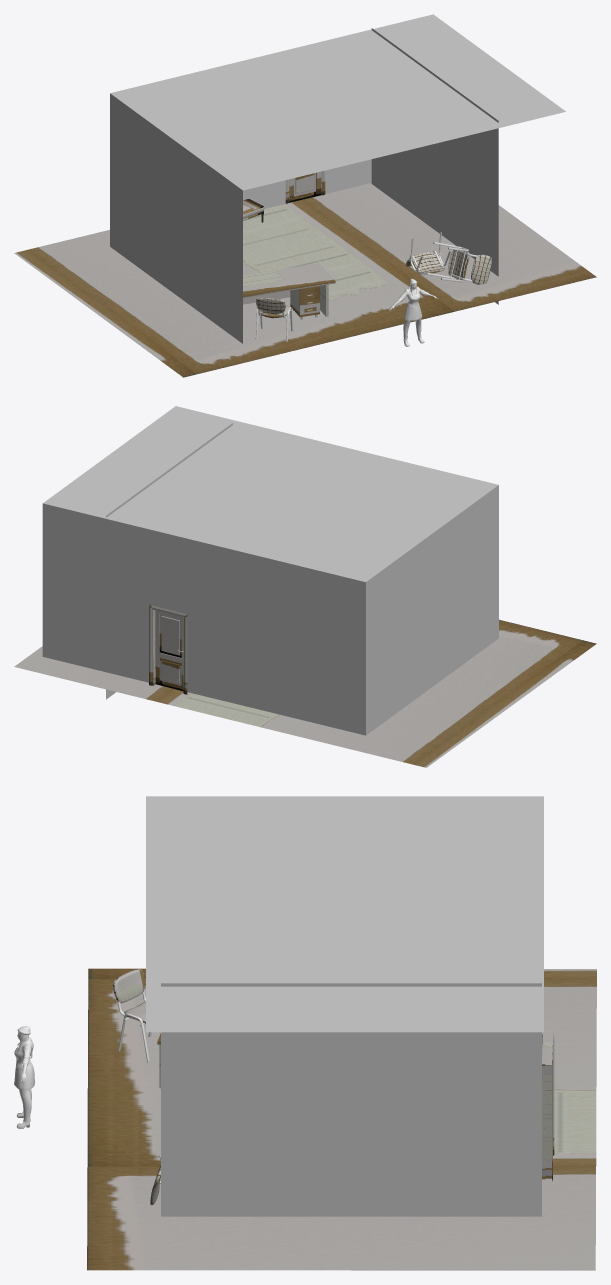
File: sala_generica.fbx
3 renders of one model, top to bottom at view 1: azimuth 30°, elevation 25°; view 2: azimuth 150°, elevation 25°; view 3: azimuth 270°, elevation 25°, orthographic. The views are drawn at different scales.
Visible parts, largest first — view 1: Cube, floor, Cube.001, Cube.003, cadeira.001, PortaMadeira, Personagem, Cube.008, cadeira, cadeira.002; view 2: Cube, floor, PortaMadeira; view 3: Cube, Cube.001, floor, PortaMadeira, Personagem, cadeira.
Boxes of the visible parts, x1,y1,x2,y2 form: Cube: (110,14,565,343); floor: (14,183,596,377); Cube.001: (371,28,498,304); Cube.003: (243,263,335,316); cadeira.001: (426,242,491,284); PortaMadeira: (285,170,325,203); Personagem: (389,278,438,346); Cube.008: (290,286,319,319); cadeira: (255,297,292,341); cadeira.002: (405,232,450,274); Cube: (42,406,498,735); floor: (14,619,596,767); PortaMadeira: (149,604,187,694); Cube: (146,796,543,1032); Cube.001: (161,983,541,1216); floor: (87,968,596,1270); PortaMadeira: (542,1033,554,1180); Personagem: (14,1026,34,1128); cadeira: (112,969,151,1062).
Bounding box in the file's own units: 1128 × 480 × 920.
